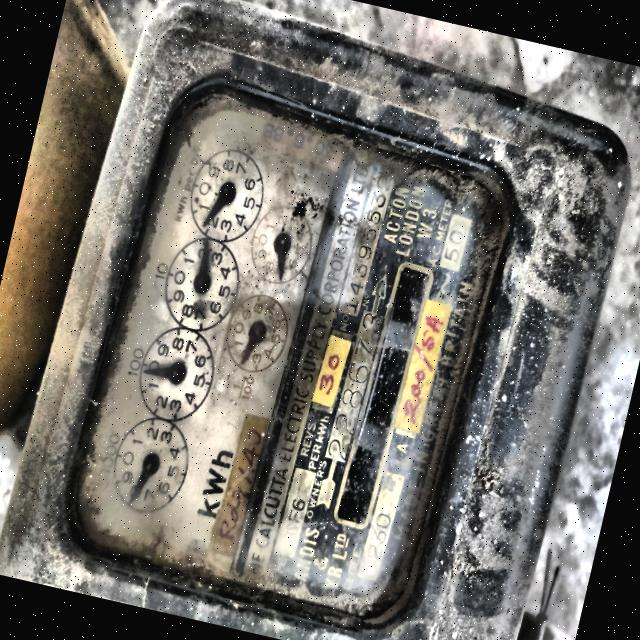Analog: (0, 0, 640, 640)
Reading: (107, 141, 317, 536)
Serial No.: (339, 164, 392, 316)
